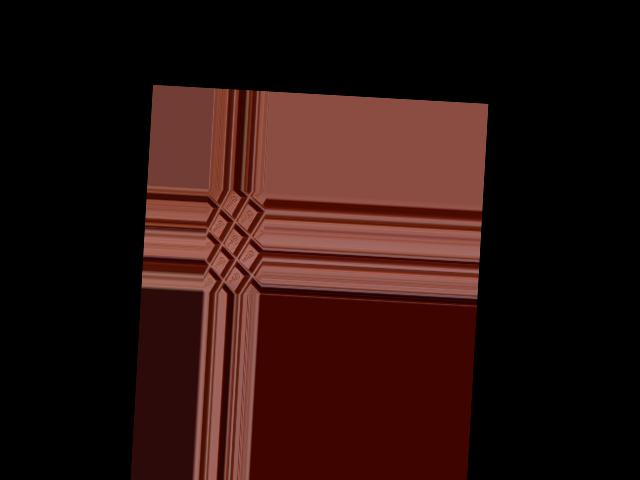chocolate: (204, 189, 267, 292)
